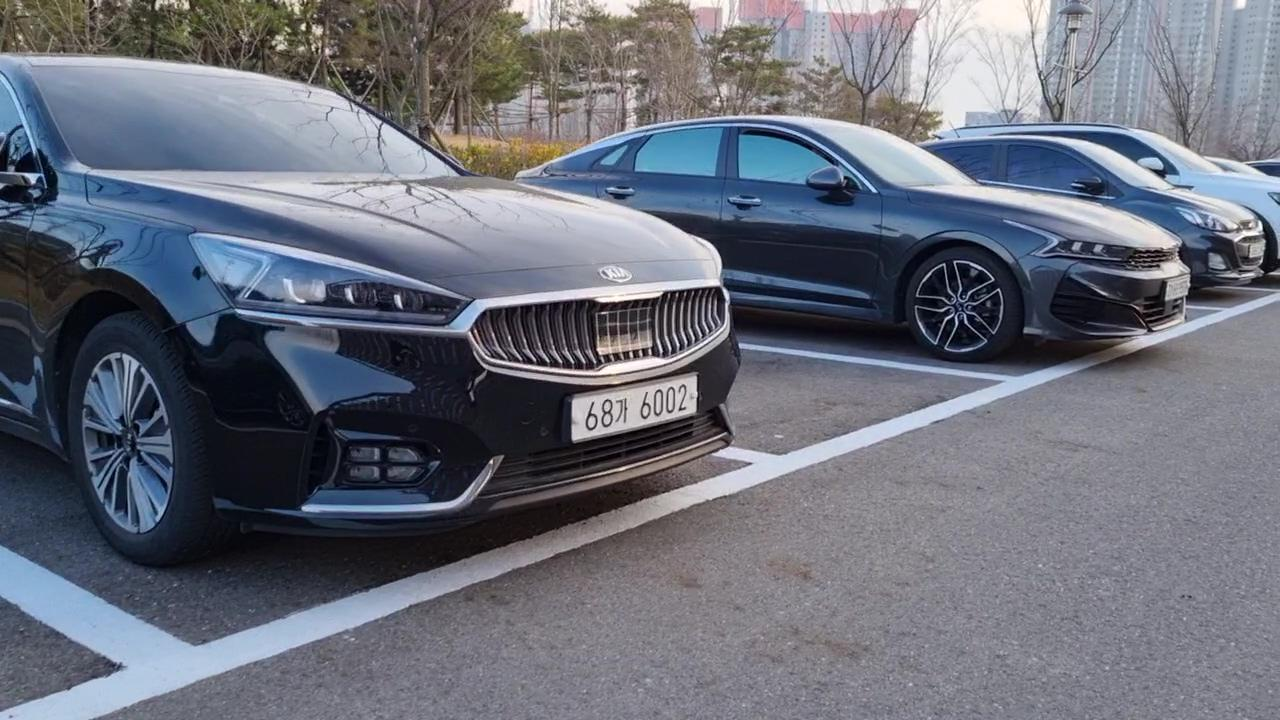empty: (721, 293, 1020, 476)
occupied: (0, 22, 744, 661), (712, 136, 1183, 388)
